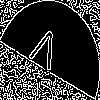V: (25, 25, 62, 80)
